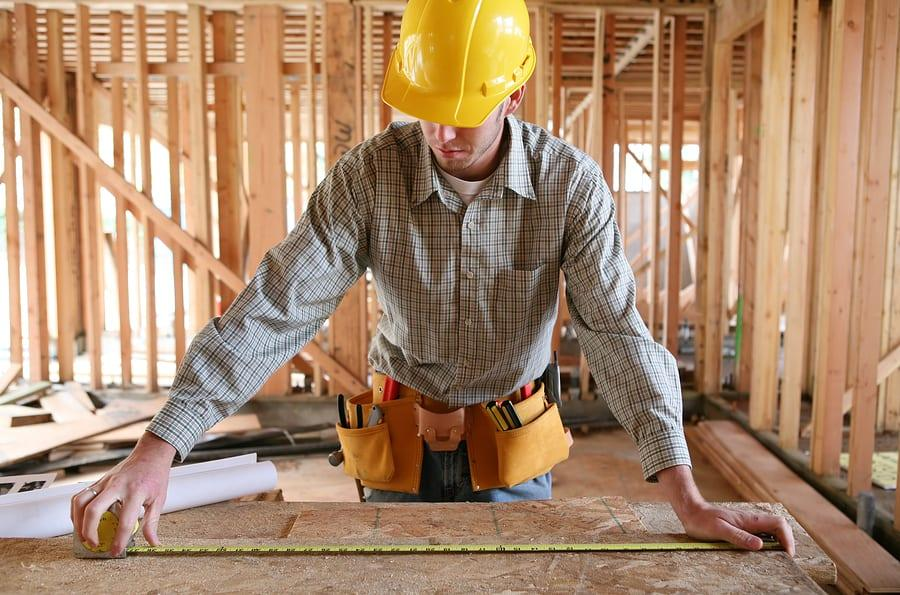helmet: (386, 1, 540, 127)
